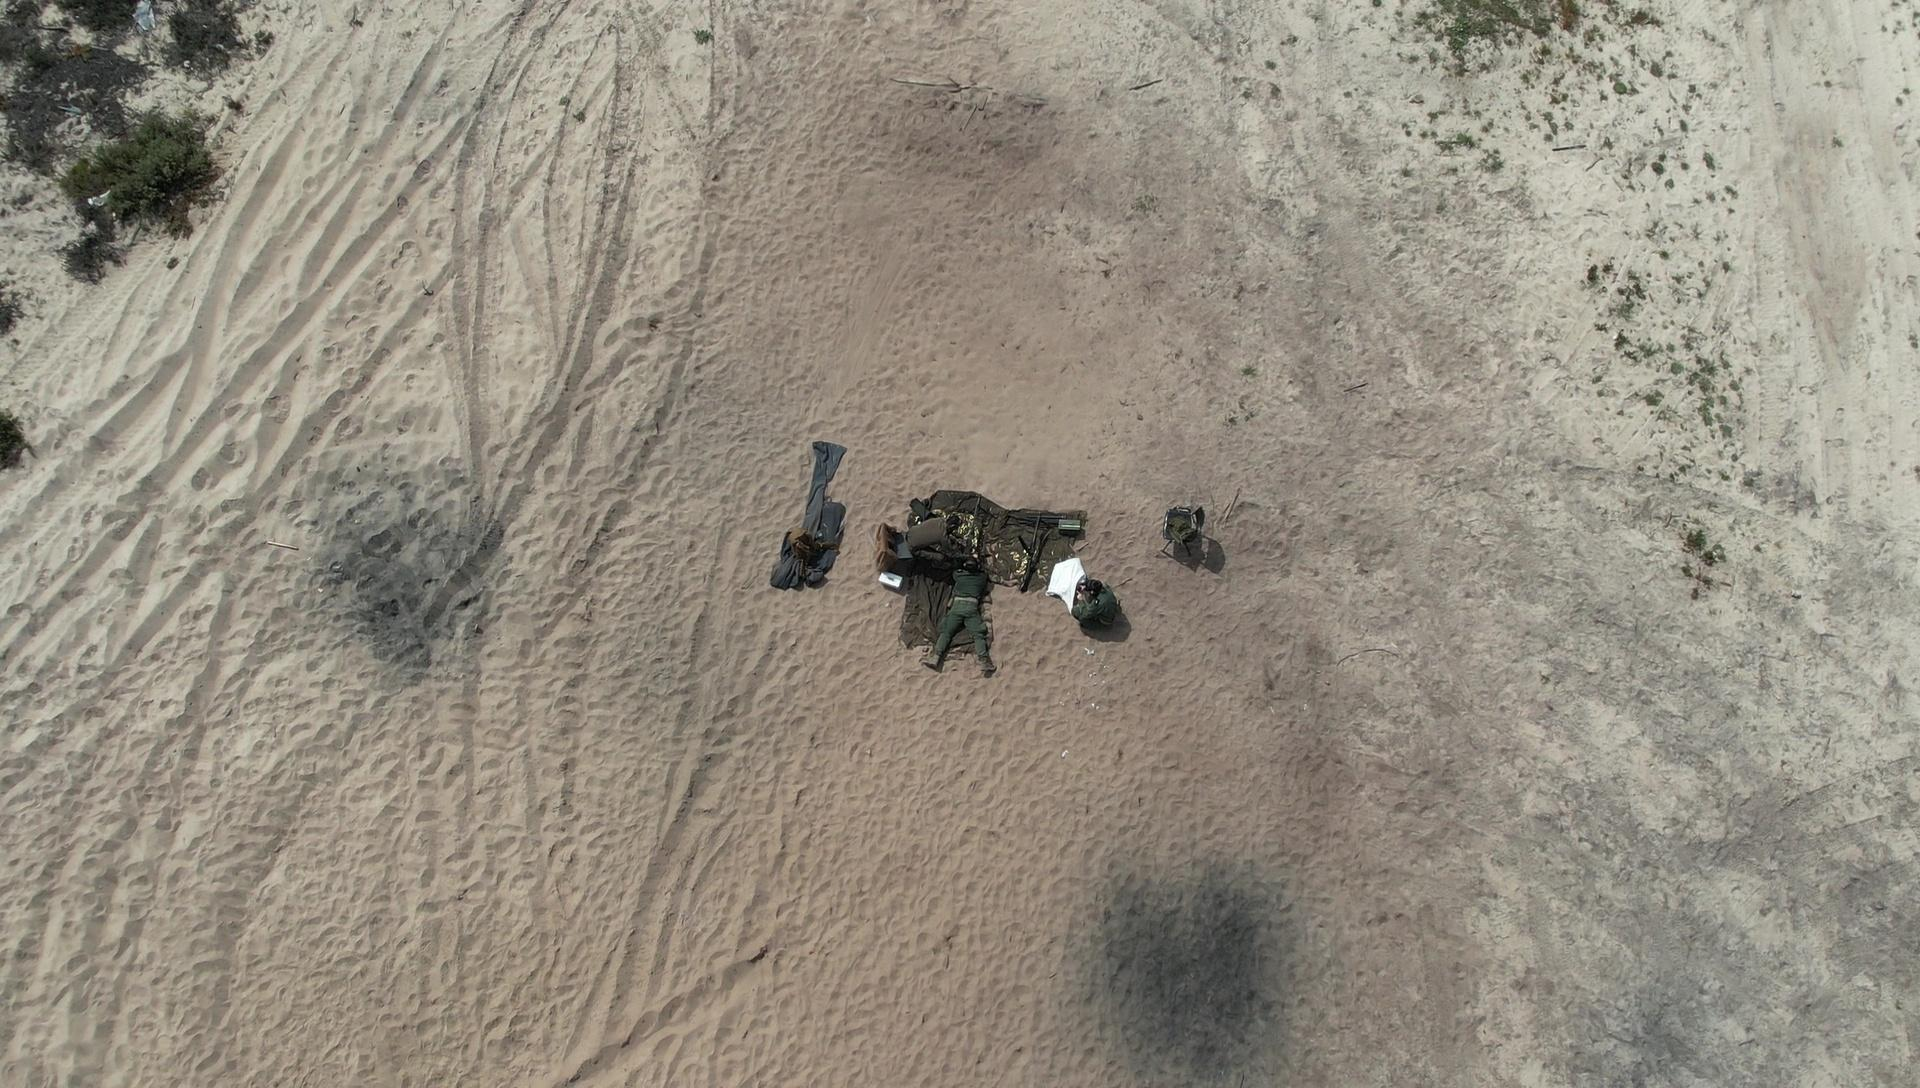Soldier: (916, 533, 997, 669), (1071, 562, 1130, 669), (895, 516, 981, 588)
